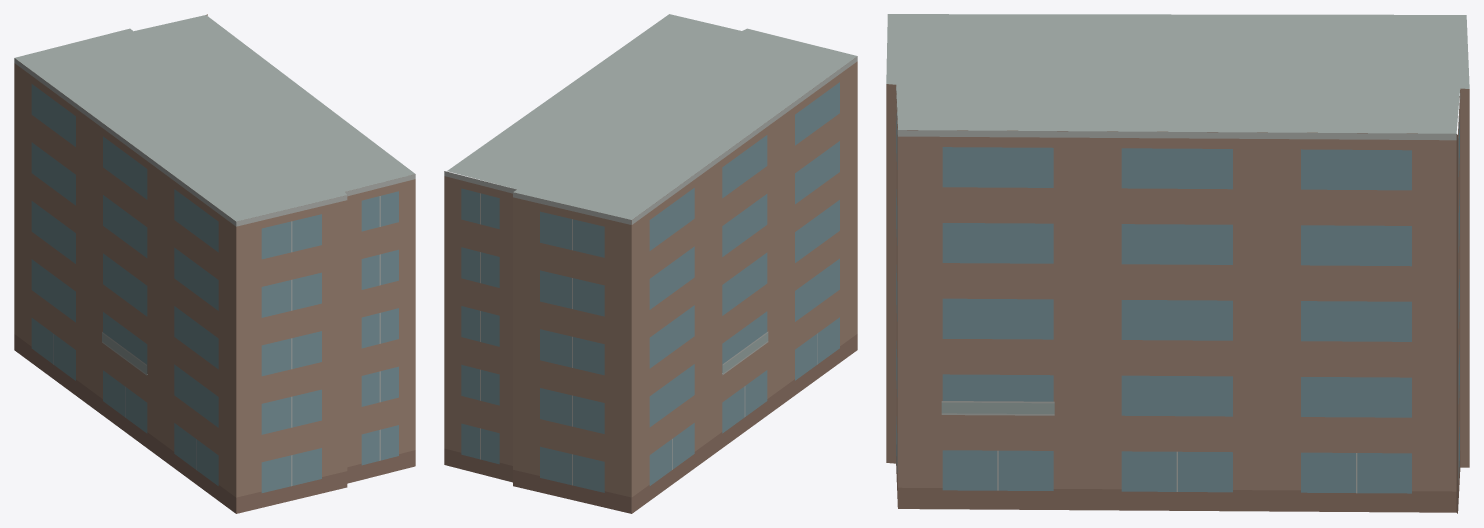
The model's file is survey-upis-32774580.glb.
The picture shows the model from 3 angles, left to right: view 1: azimuth 30°, elevation 25°; view 2: azimuth 150°, elevation 25°; view 3: azimuth 270°, elevation 25°; orthographic projection. The views are drawn at different scales.
Visible parts, largest first — view 1: survey-upis-32774580.tmp; view 2: survey-upis-32774580.tmp; view 3: survey-upis-32774580.tmp.
Boxes of the visible parts, left/top/right/bottom form: survey-upis-32774580.tmp: left=14, top=14, right=415, bottom=513; survey-upis-32774580.tmp: left=444, top=14, right=857, bottom=513; survey-upis-32774580.tmp: left=886, top=14, right=1469, bottom=513.
Size of the model in its own units: 9.67 by 14.1 by 19.69.
